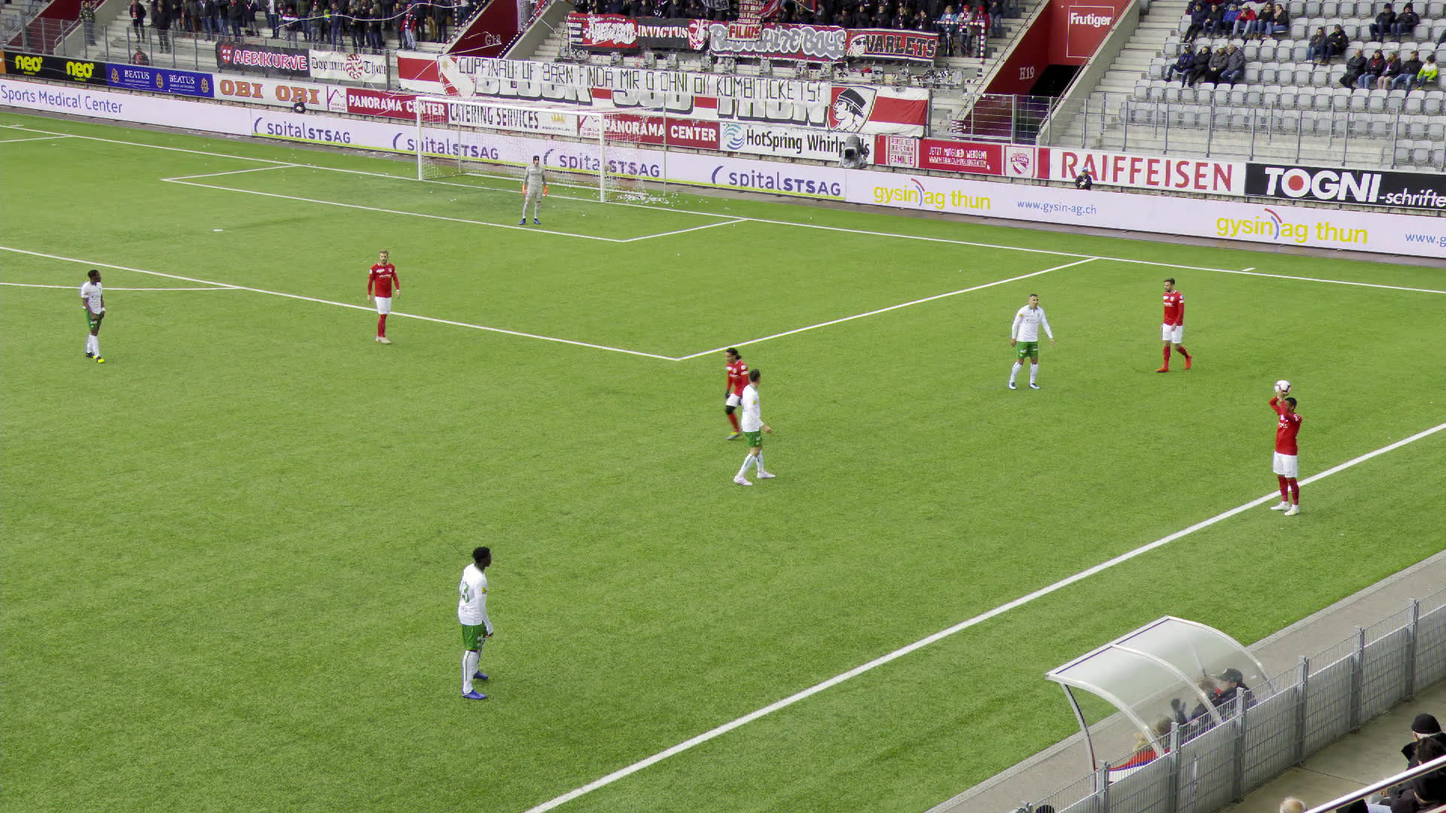ball: (1274, 379, 1292, 393)
player: (456, 545, 494, 700), (732, 367, 775, 486), (1266, 388, 1304, 515), (1007, 292, 1055, 391), (725, 345, 769, 443), (364, 248, 401, 345), (1155, 278, 1192, 373), (78, 268, 107, 364), (517, 154, 548, 226)
